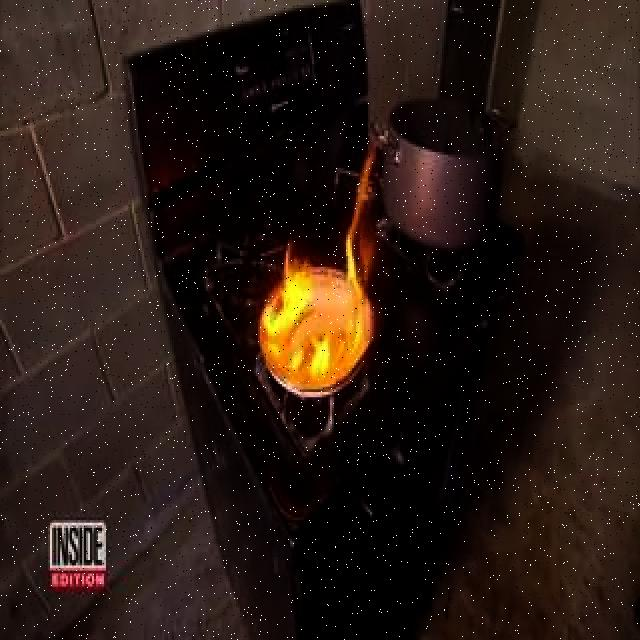fire: (266, 158, 369, 372)
